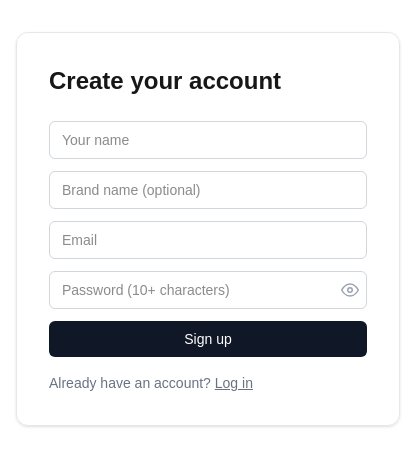
Scenario: SignUpPage validation › shows an error instead of submitting when name is missing
The width and height of the screenshot is (417, 460).
Type "nae@example.com" into the field labelled "Email" at [208, 240], box [49,221,367,259]
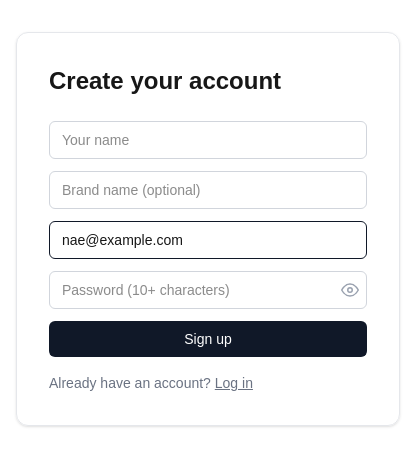
Type "long-enough-pw" into the password field labelled "Password" at [208, 290], box [49,271,367,309]
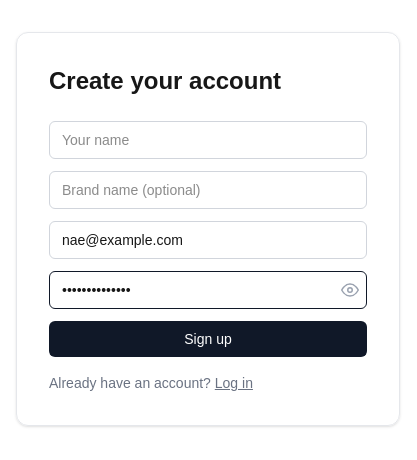
Click the button "Sign up" at [208, 339], box [49,321,367,357]
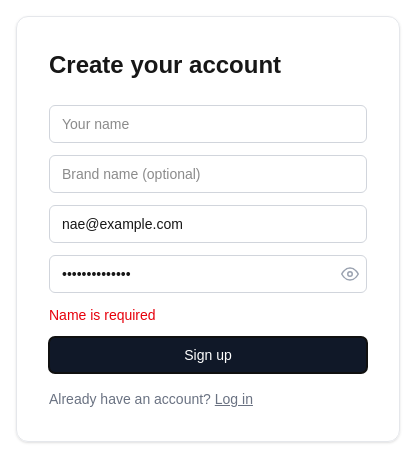
Expected: the text "Name is required" is shown, [49,307,156,323]
